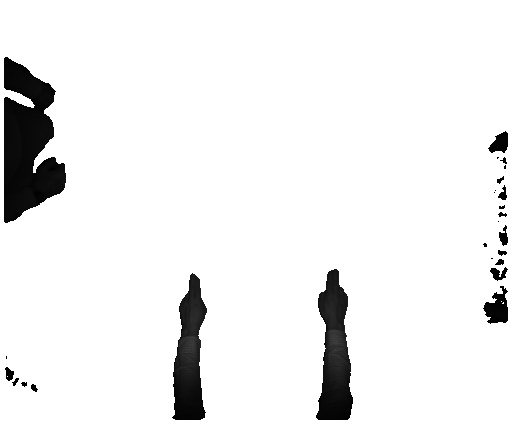fist: (37, 155, 71, 201), (30, 79, 55, 113)
hand: (312, 264, 351, 326), (176, 272, 207, 332)
